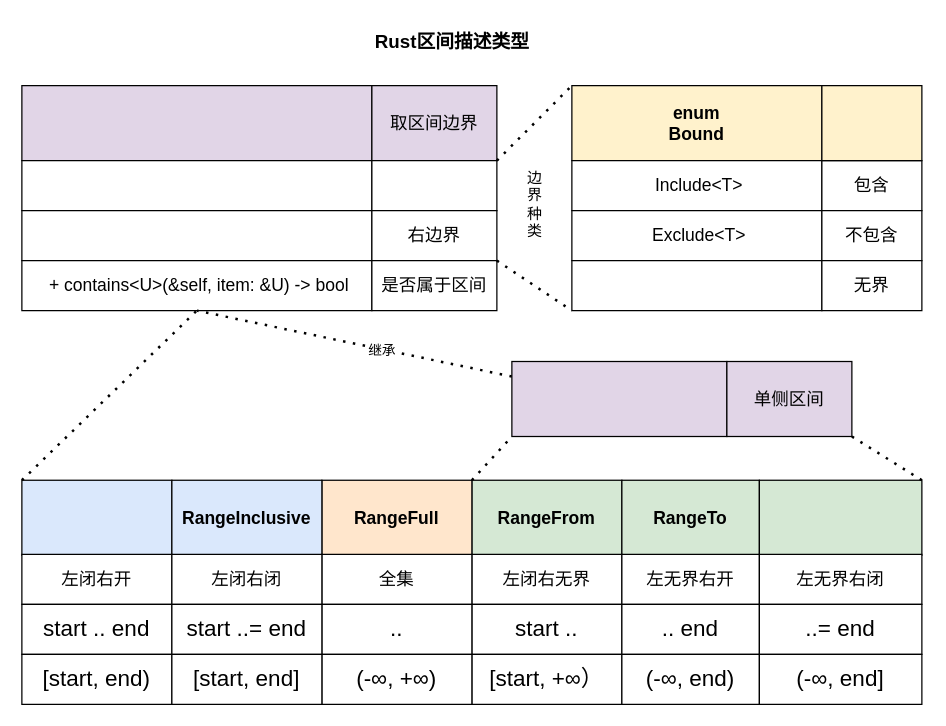
Some shapes in this 946 by 726 pixel diagram are drawn without their labels. The centre of each missing label's shape, as x and y in pixels:
"end_bound(&self) -> Bound<&T>" goes at pixel 196 235.
"Range" goes at pixel 96 517.
"RangeToInclusive" goes at pixel 840 517.
"start_bound(&self) -> Bound<&T>" goes at pixel 196 185.
"trait OneSideRange<T>" goes at pixel 619 398.
"trait RangeBounds<T>" goes at pixel 196 122.
"Unbounded" goes at pixel 696 285.
"左边界" goes at pixel 434 185.
"边界类型" goes at pixel 871 122.
